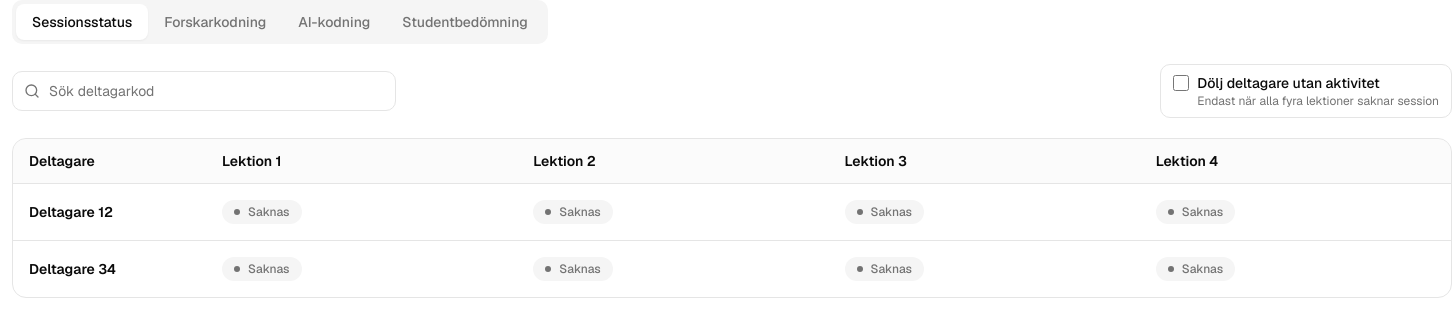
Test: OverviewTable › filters by participant code
Type "34" into the field with placeholder "Sök deltagarkod".
click(204, 91); type("34")  # box [12,71,396,111]
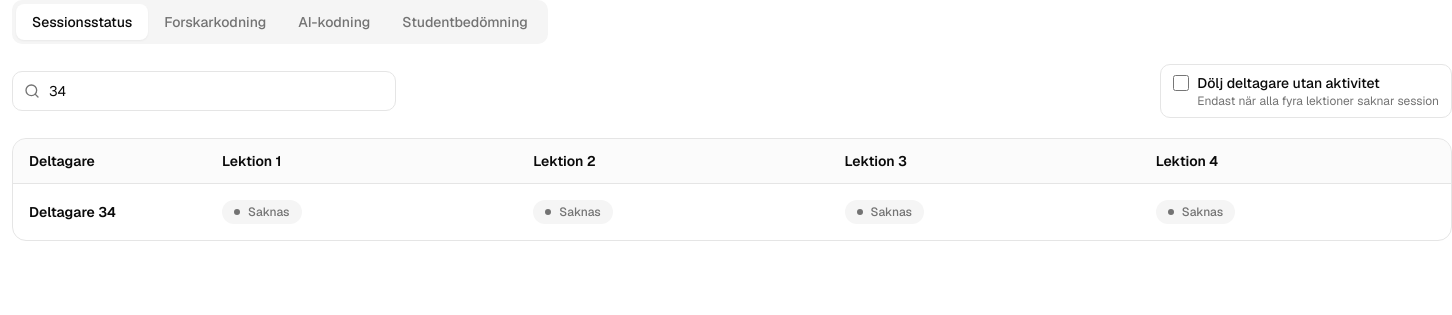
Check: the column heading "Deltagare 34" is shown, box [13,184,206,240]
Check: the column heading "Deltagare 12" is gone
